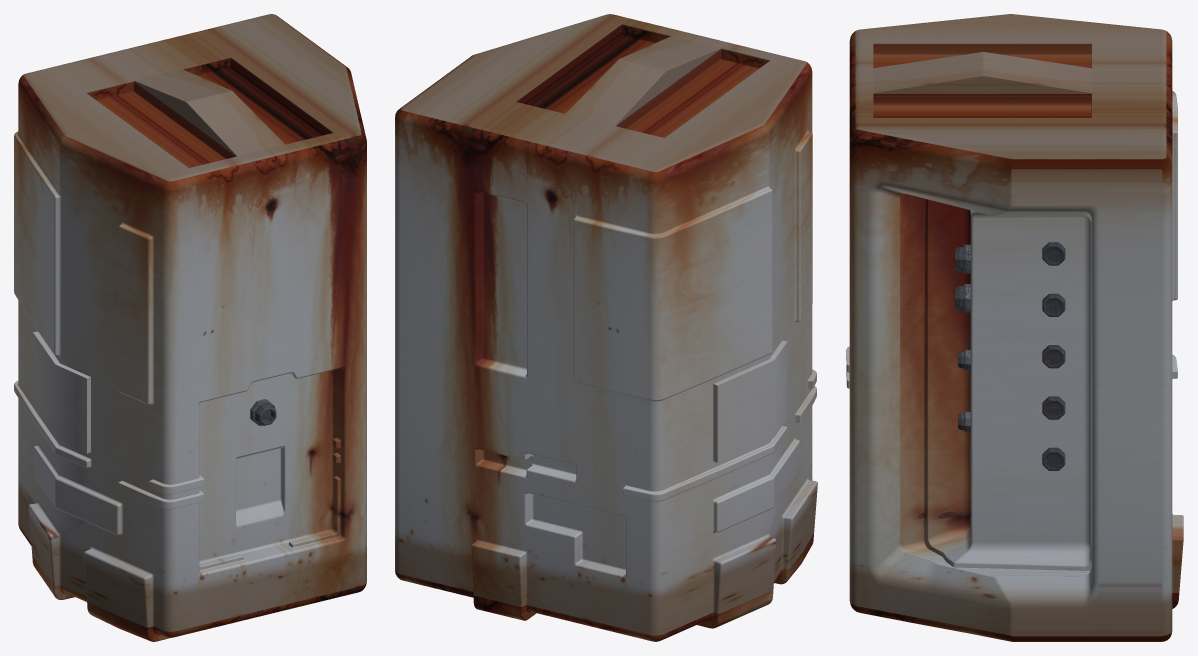
The model's file is BateriaNoFunca1 con textura.FBX.
3 views of the same model, side by side, from view 1: azimuth 30°, elevation 25°; view 2: azimuth 150°, elevation 25°; view 3: azimuth 270°, elevation 25° (orthographic). The views are drawn at different scales.
Visible parts, largest first — view 1: pCube1, pCylinder13; view 2: pCube1; view 3: pCube1, pCylinder13.
Boxes of the visible parts, x1=… form: pCube1: x1=14, y1=14, x2=366, y2=641; pCylinder13: x1=250, y1=399, x2=276, y2=425; pCube1: x1=395, y1=14, x2=817, y2=641; pCube1: x1=846, y1=14, x2=1183, y2=641; pCylinder13: x1=955, y1=242, x2=1065, y2=470.
Bounding box in the file's own units: 3.83 × 5.89 × 3.53.
Materials: 2 (2 with a texture image).
